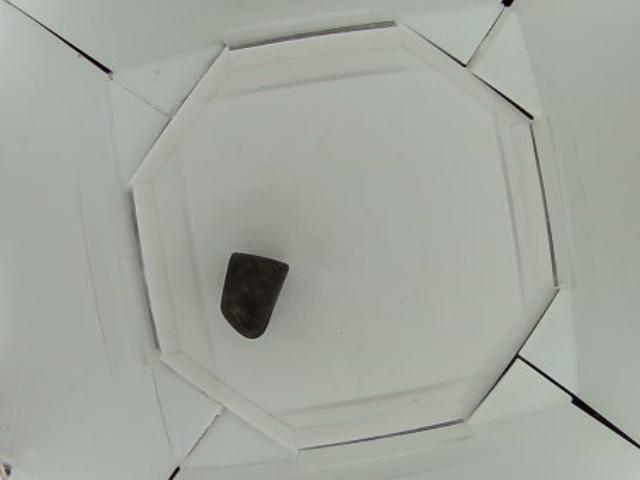Pebble: (221, 251, 286, 338)
